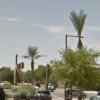Palm tree: (22, 40, 48, 79)
